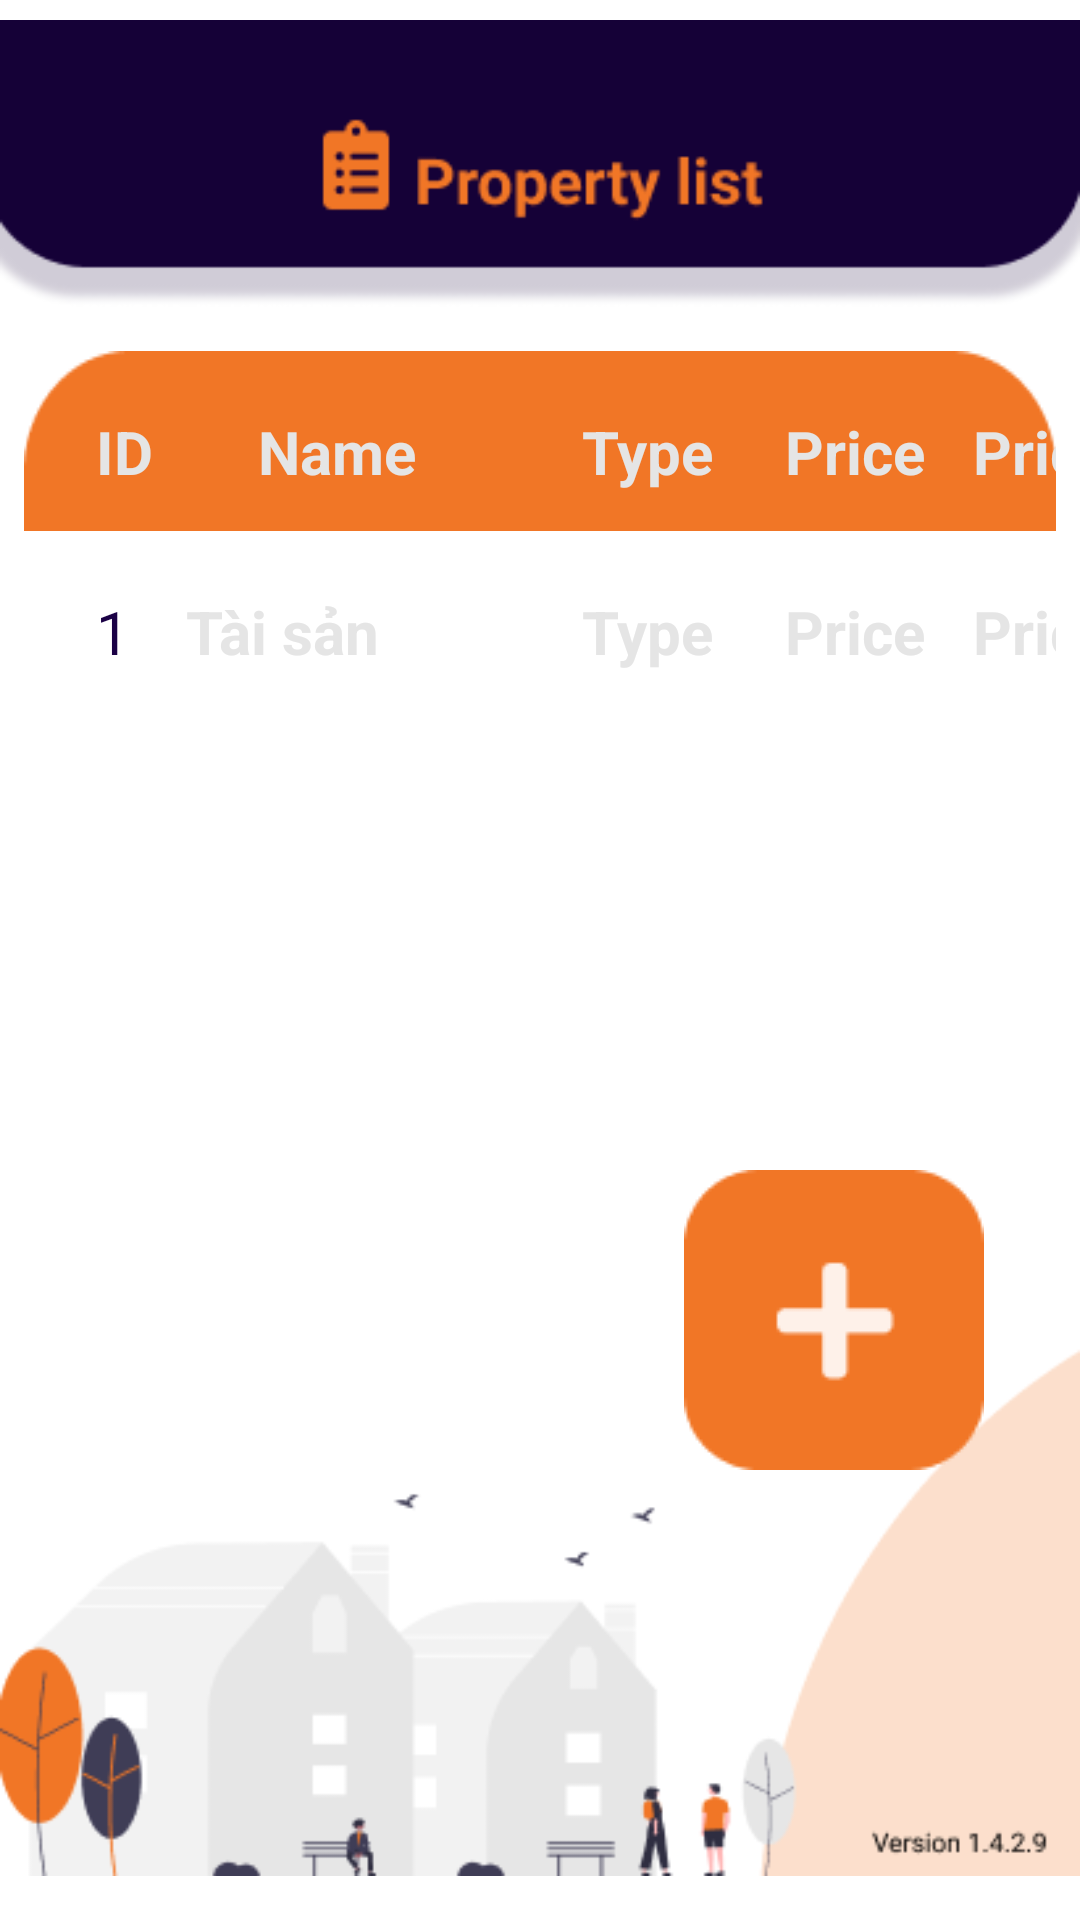

Icon click points for this 1080*1920 phone screenshot, format (x=x, y=y):
list pro add: (x=834, y=1320)
